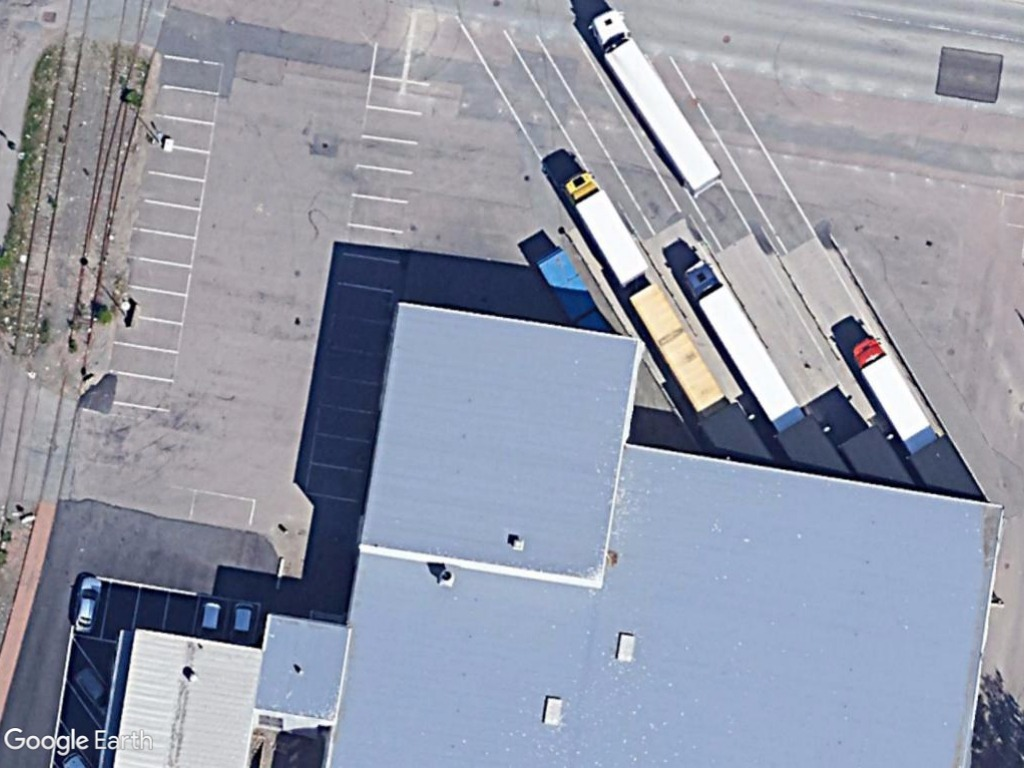car: (65, 567, 106, 640)
longvehicle: (582, 4, 724, 199), (676, 250, 808, 442), (841, 328, 950, 465)
truck: (552, 160, 655, 299)
